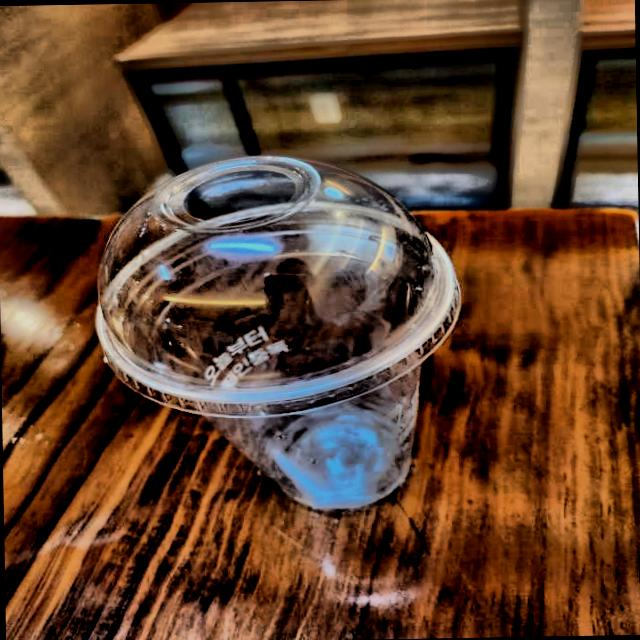plastic cup: (69, 120, 482, 578)
